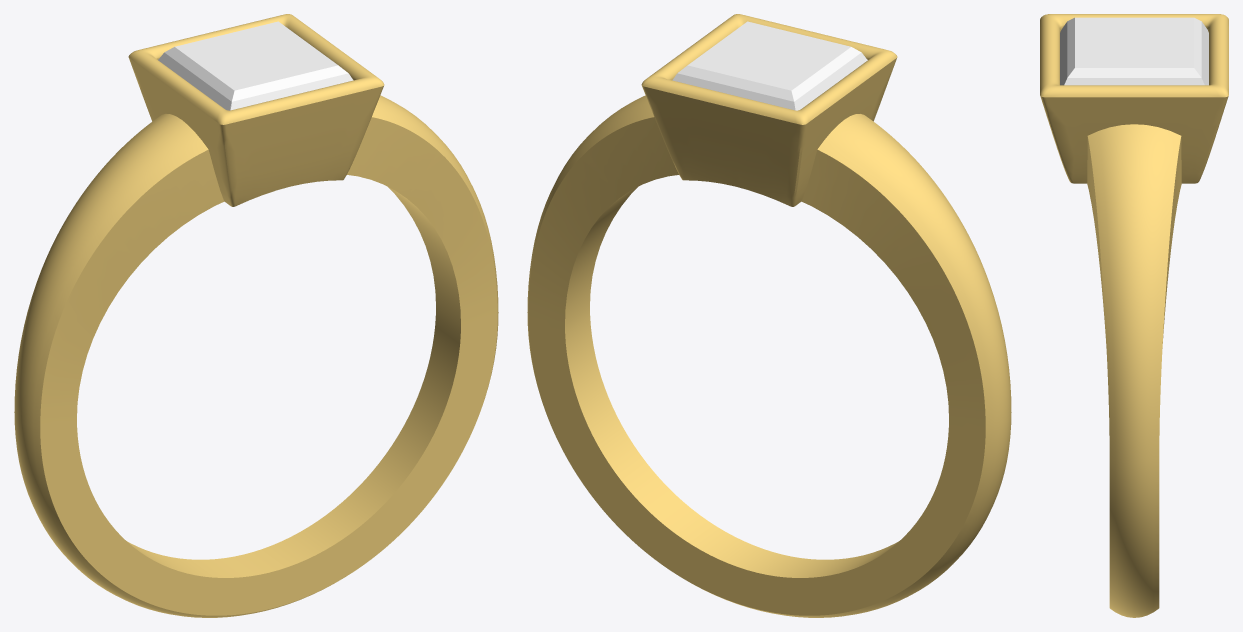
File: chrisStephens_webgi.glb
3 renders of one model, left to right at view 1: azimuth 30°, elevation 25°; view 2: azimuth 150°, elevation 25°; view 3: azimuth 270°, elevation 25°, orthographic.
Parts seen in each view (by area): view 1: chris_ring_YG_for_3d_model, chris_ring_emerald_for_3d_model; view 2: chris_ring_YG_for_3d_model, chris_ring_emerald_for_3d_model; view 3: chris_ring_YG_for_3d_model, chris_ring_emerald_for_3d_model.
Part boxes in pixels (bbox=[...]): chris_ring_YG_for_3d_model: bbox=[14, 14, 498, 617]; chris_ring_emerald_for_3d_model: bbox=[158, 21, 353, 110]; chris_ring_YG_for_3d_model: bbox=[527, 14, 1011, 617]; chris_ring_emerald_for_3d_model: bbox=[672, 21, 867, 110]; chris_ring_YG_for_3d_model: bbox=[1040, 14, 1228, 617]; chris_ring_emerald_for_3d_model: bbox=[1060, 17, 1208, 85].
Size of the model in its own units: 2.61 by 2.9 by 0.9025.
